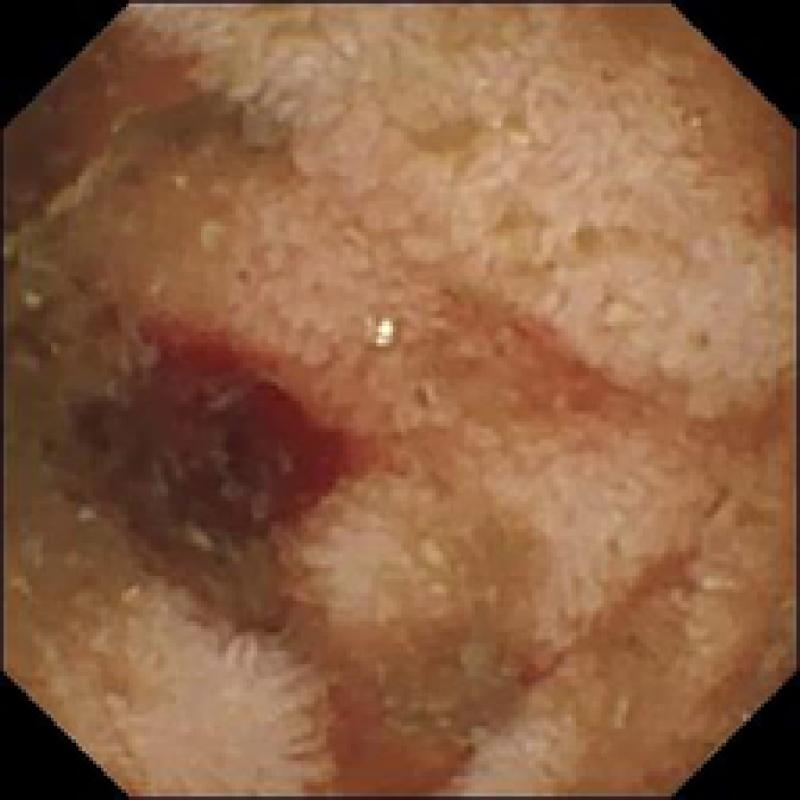bleeding: (79, 307, 357, 547)
